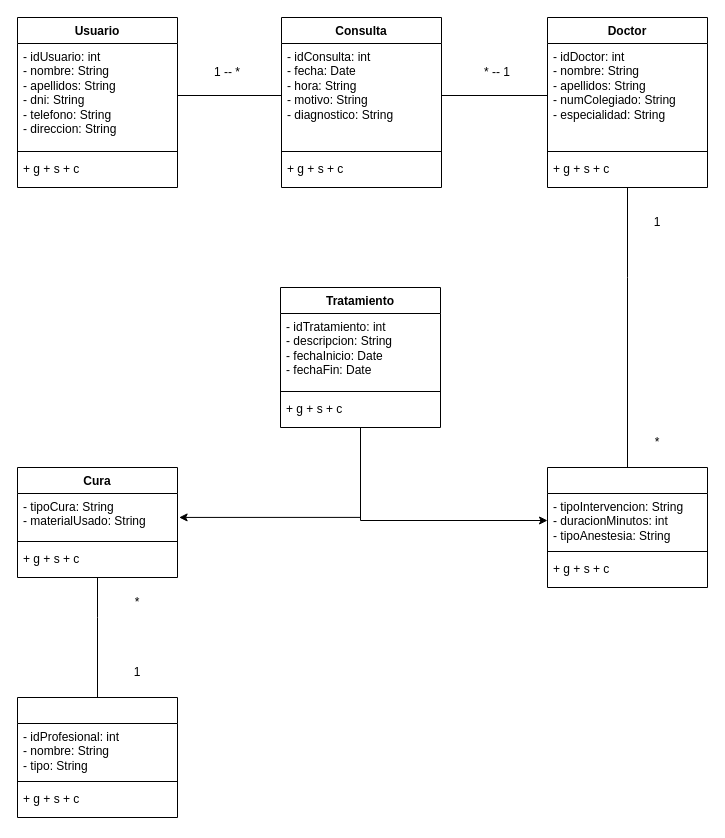
The diagram is 725 pixels wide and 838 high, and some of its shapes have lost their labels. Here are the shapes that lost their labels. From the top down, the box of each, then its label:
(546, 466, 708, 588): IntervencionQuirurgica
(16, 696, 178, 818): ProfesionalSanitario
